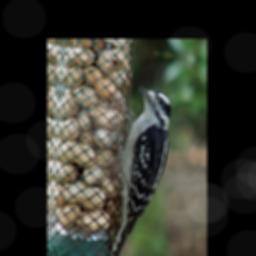Woodpecker: (98, 78, 181, 256)
